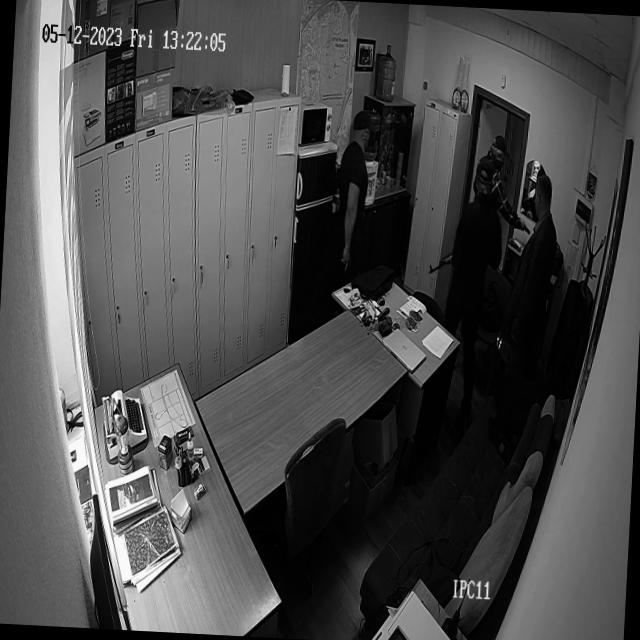gun: (429, 251, 464, 275), (516, 206, 536, 241), (343, 248, 355, 281)
person: (503, 162, 562, 424)
person with a gun: (443, 153, 507, 431), (334, 97, 384, 300), (478, 124, 536, 238)
